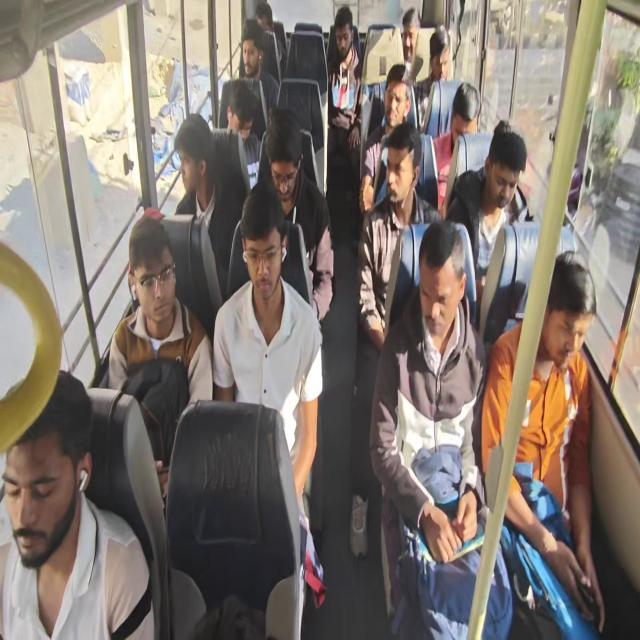person: (5, 394, 84, 552), (530, 263, 586, 378), (127, 227, 177, 323), (239, 205, 290, 298), (171, 120, 222, 202), (423, 233, 463, 335), (486, 124, 525, 214), (382, 139, 422, 210), (264, 132, 303, 199), (380, 64, 412, 136), (450, 79, 482, 147), (226, 84, 260, 142), (430, 29, 454, 86), (333, 12, 358, 65), (398, 12, 422, 62), (240, 32, 266, 73), (250, 0, 276, 41)
